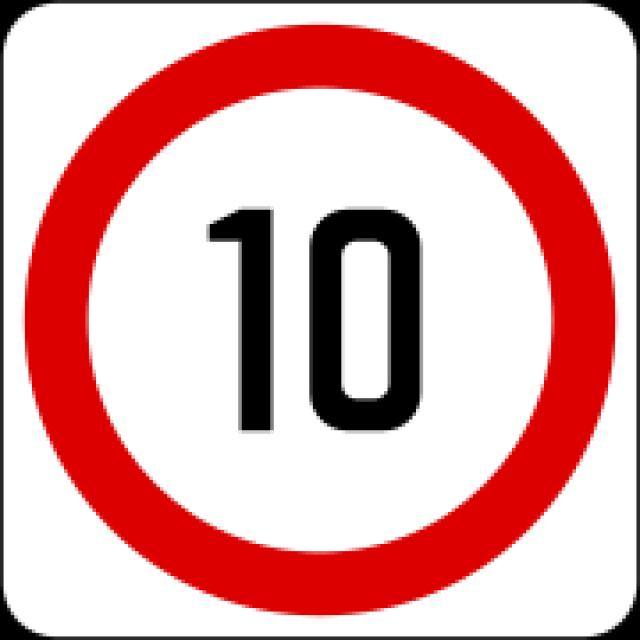Speed Limit -10-: (202, 198, 425, 446)
